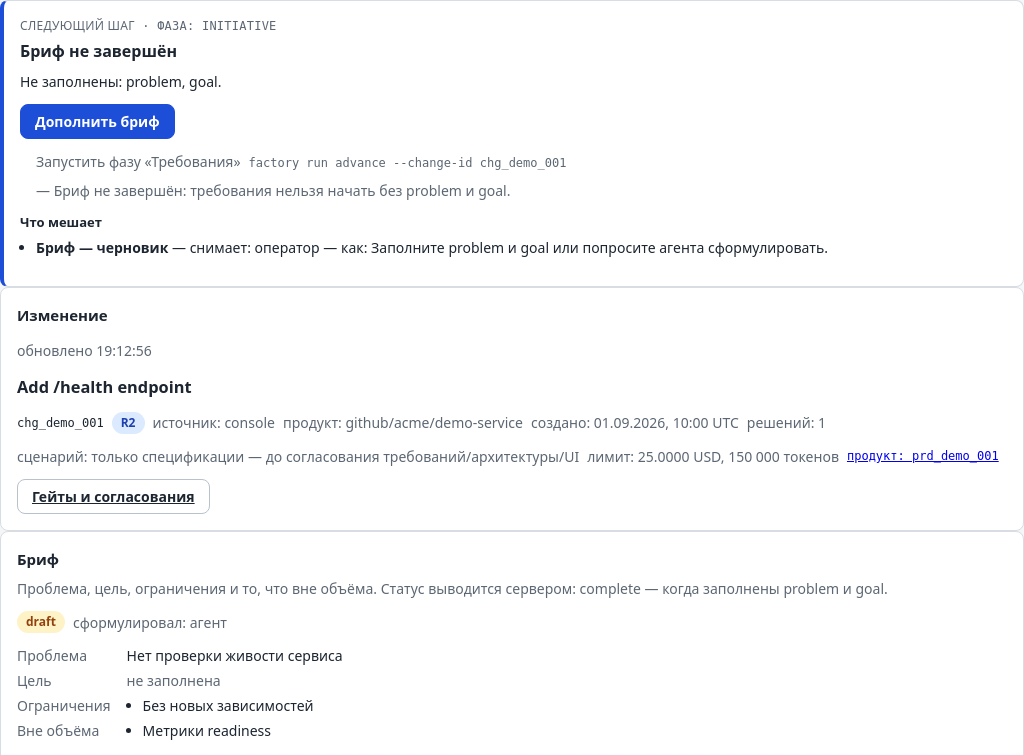
Test: ChangeCardPage › focuses the brief editor from the guidance primary and saves an operator-edited brief via PUT
Expected: the element with test id "brief-section" shows "draft", [26, 613, 56, 630]
Expected: the element with test id "brief-goal" reads "не заполнена", [127, 671, 221, 690]
Click the button with test id "next-step-primary": click(97, 122) [20, 104, 175, 139]
(page scrolled)
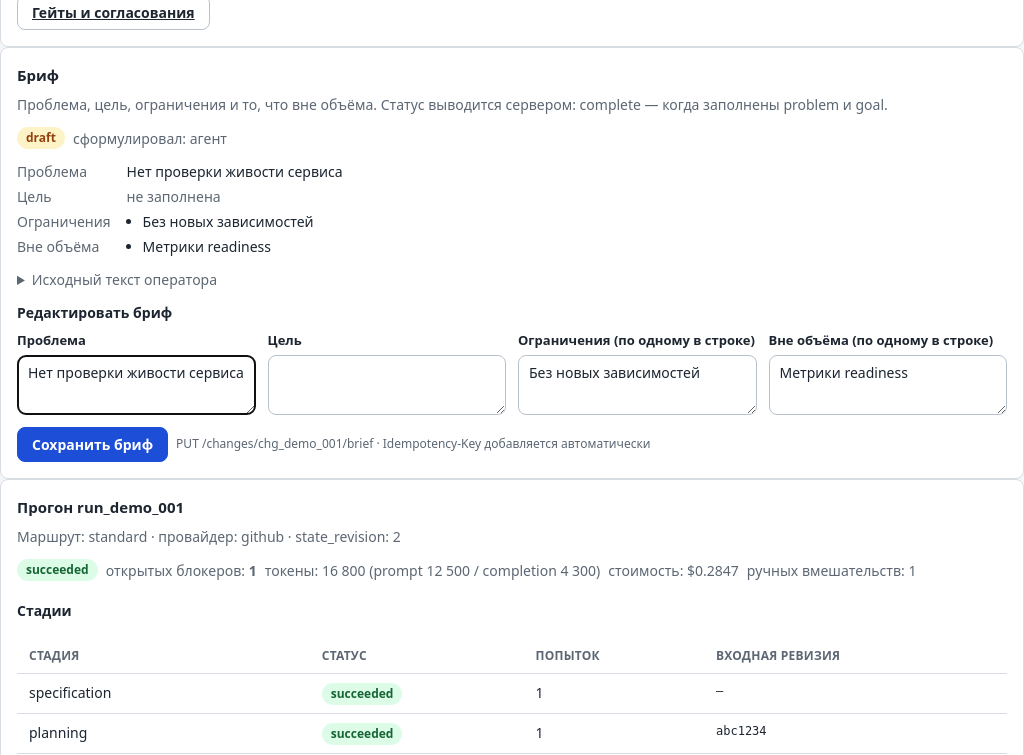
In the text box labelled "Цель": (387, 385) [268, 355, 506, 415], type "Эндпоинт /health отвечает 200 при готовности"
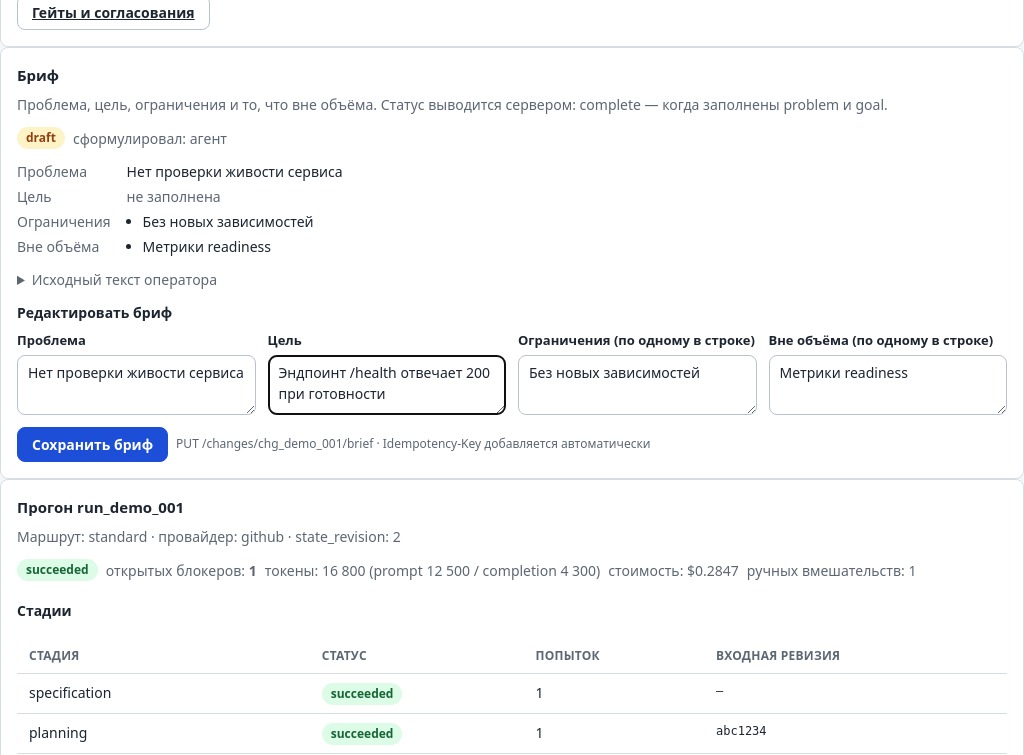
Click the button "Сохранить бриф": click(93, 444) [17, 427, 168, 462]
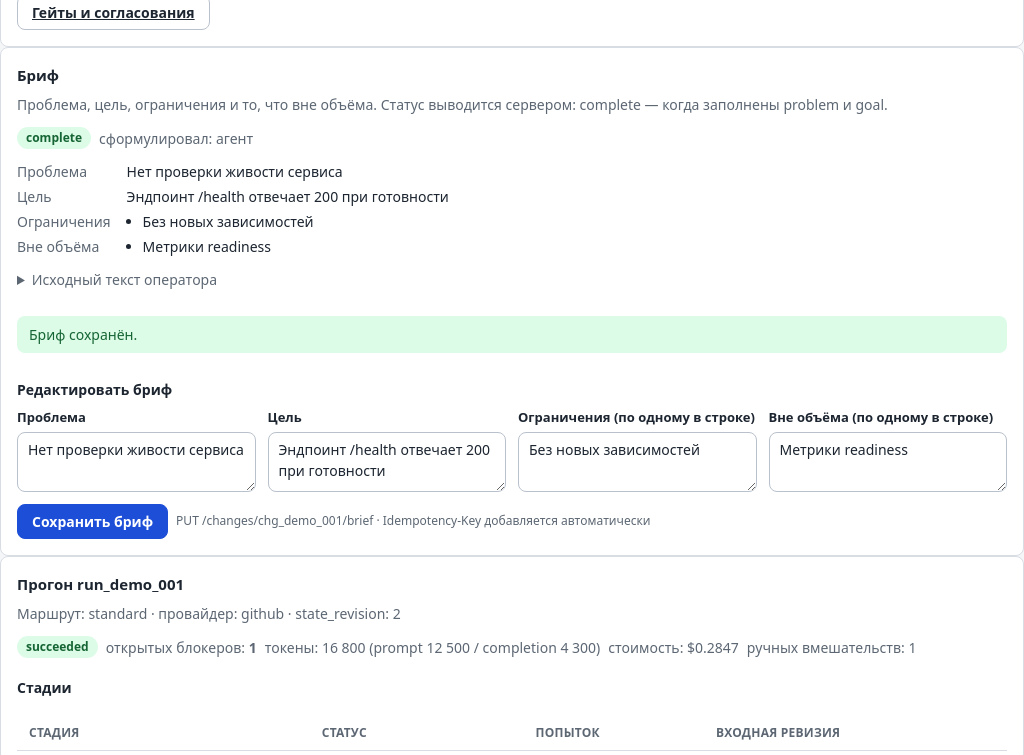
Expected: the text "Бриф сохранён." is shown, [17, 316, 1007, 353]
Expected: the text with test id "brief-goal" shows "отвечает 200", [127, 187, 449, 206]
